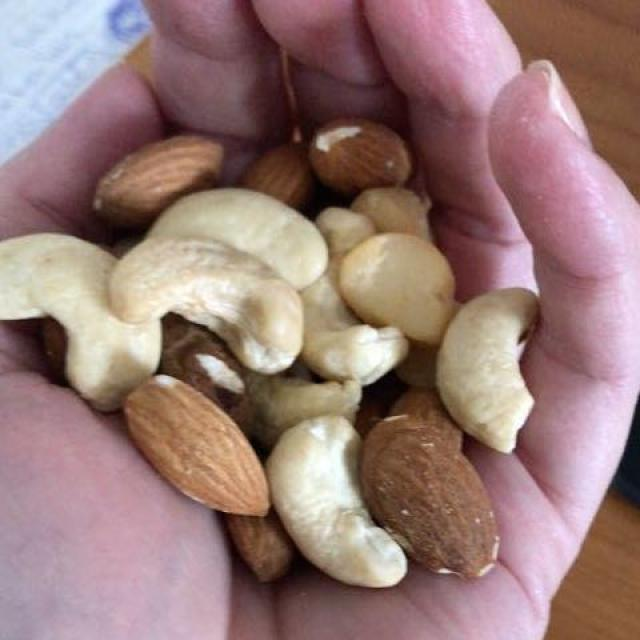mixed-nuts: (11, 117, 537, 582)
